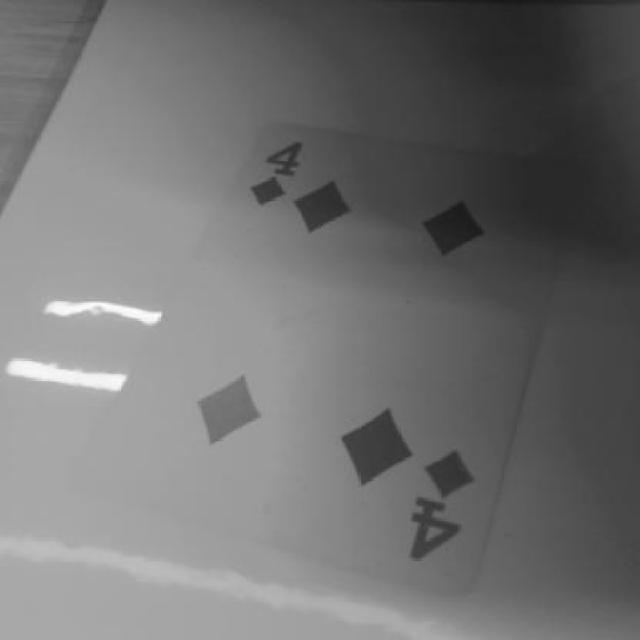4D: (388, 436, 484, 572), (221, 136, 322, 230)
